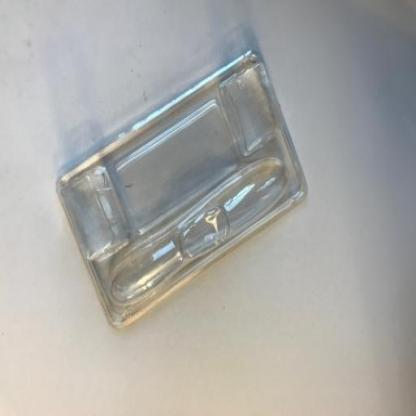trash: (50, 48, 312, 315)
